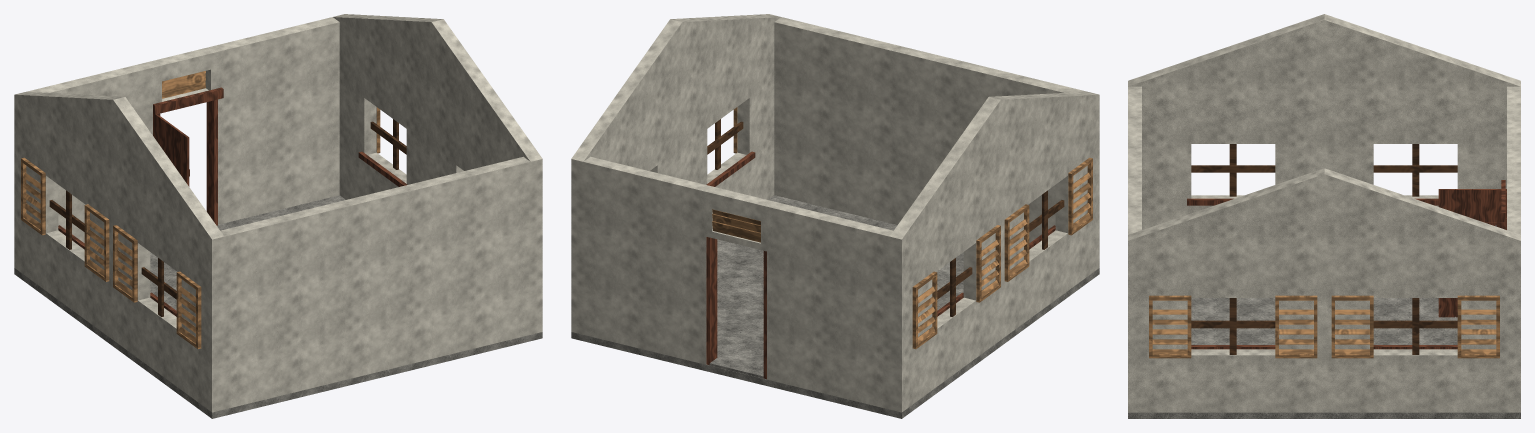
File: house.fbx
The picture shows the model from 3 angles, left to right: view 1: azimuth 30°, elevation 25°; view 2: azimuth 150°, elevation 25°; view 3: azimuth 270°, elevation 25°; orthographic projection.
Parts seen in each view (by area): view 1: house; view 2: house; view 3: house.
Part boxes in pixels (left/top/right/bottom): house: left=14, top=14, right=542, bottom=418; house: left=571, top=14, right=1099, bottom=418; house: left=1128, top=14, right=1520, bottom=418.
Size of the model in its own units: 552 by 385 by 560.
